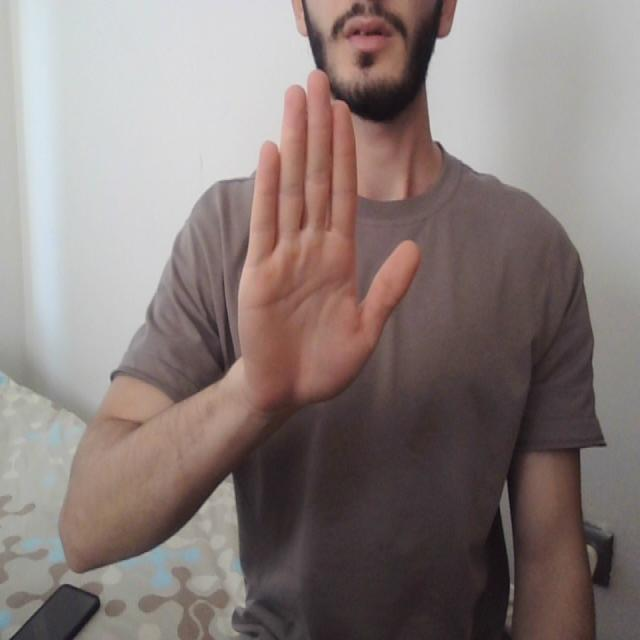Dur: (232, 66, 425, 404)
